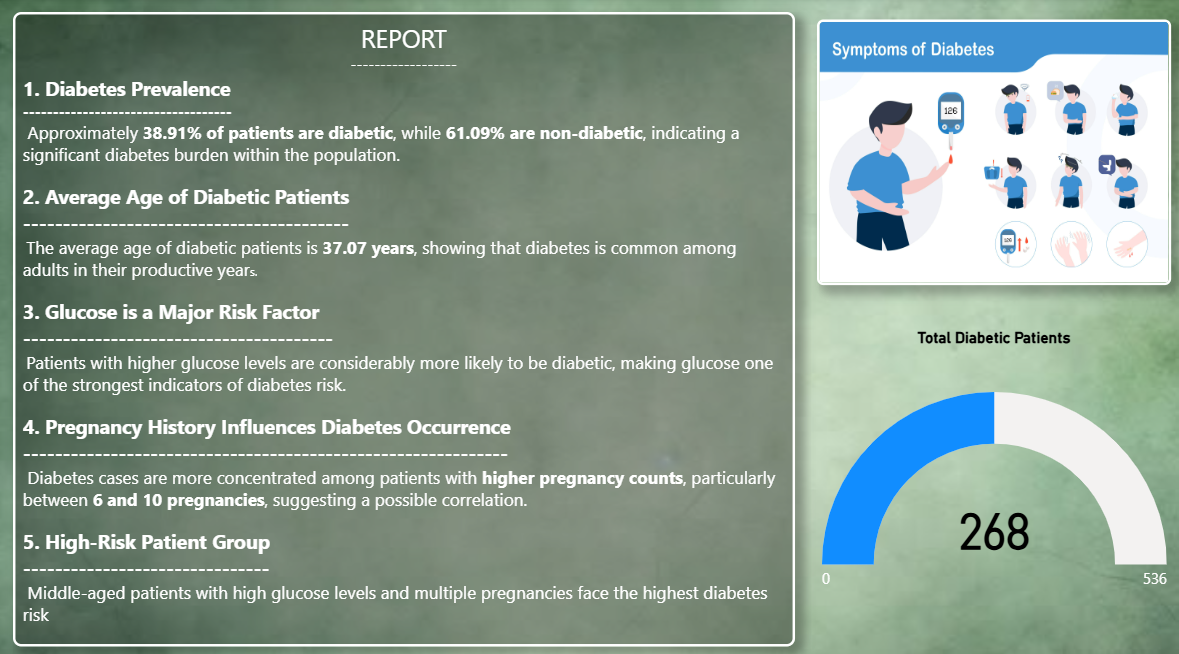

The page's visual inventory and layout, read from the dashboard file:
{"tool":"powerbi","page":{"name":"Report","canvas":[1280,720],"ordinal":1},"visuals":[{"type":"textbox","box":[16,16,848,688],"z":0},{"type":"image","box":[888,24,384,288],"z":1},{"type":"gauge","title":"Total Diabetic Patients","fields":{"Y":["diabetes.Total Diabetic"]},"box":[888,360,384,336],"z":2}]}

Visuals, with their boxes in screenshot pixels (x1, y1, x2, y2), scaled from the page's 1280x720 canvas onto the 1179x654 screenshot:
textbox: <box>15,15,796,639</box>
image: <box>818,22,1172,283</box>
"Total Diabetic Patients" gauge: <box>818,327,1172,632</box>
